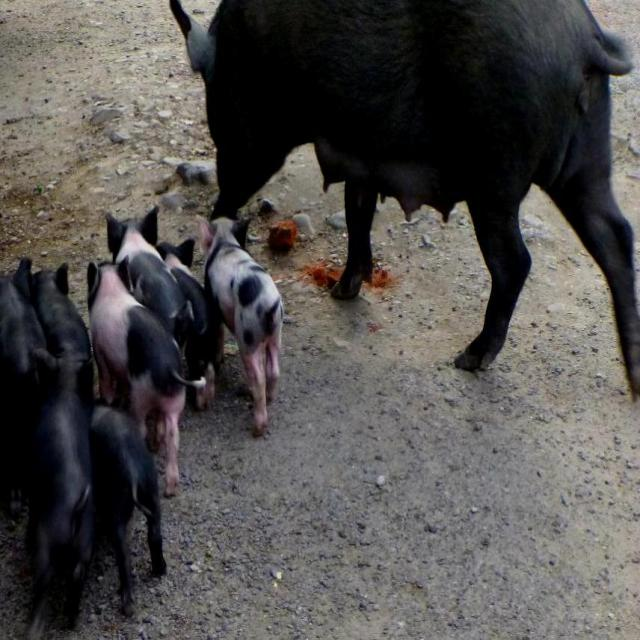pig: (171, 0, 640, 396), (88, 260, 189, 494), (29, 350, 94, 638), (199, 218, 284, 436), (90, 405, 166, 615), (0, 258, 46, 515), (107, 207, 191, 346), (156, 238, 220, 409), (31, 263, 91, 358)
